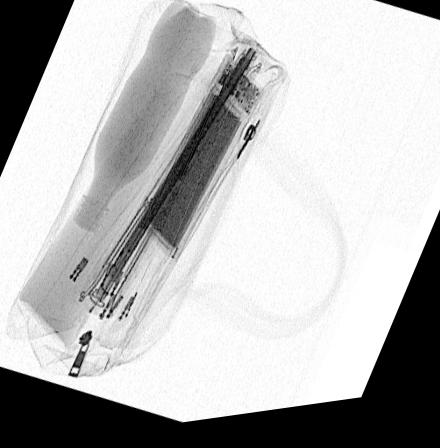Powerbank: (142, 64, 265, 270)
